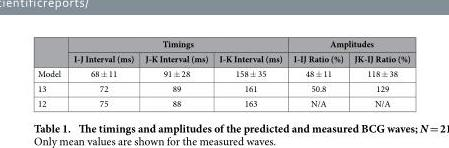table: (36, 37, 409, 109)
table column: (138, 37, 213, 109), (213, 37, 287, 109), (66, 37, 138, 109), (287, 37, 348, 109), (348, 37, 409, 109), (36, 37, 66, 109)
table column header: (36, 37, 409, 65)
table row: (36, 50, 409, 65), (36, 65, 409, 80), (36, 80, 409, 95), (36, 95, 409, 109), (36, 37, 409, 50)
table spanning cell: (66, 37, 287, 50), (287, 37, 409, 50)
